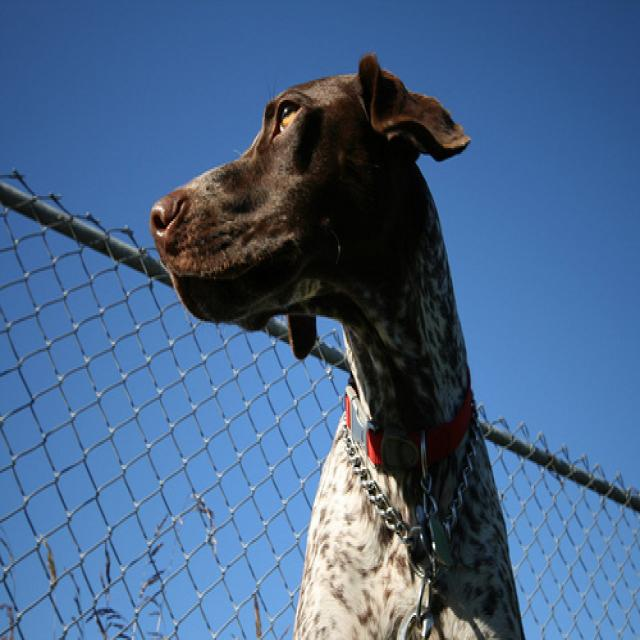dog-german_shorthaired: (143, 40, 524, 636)
